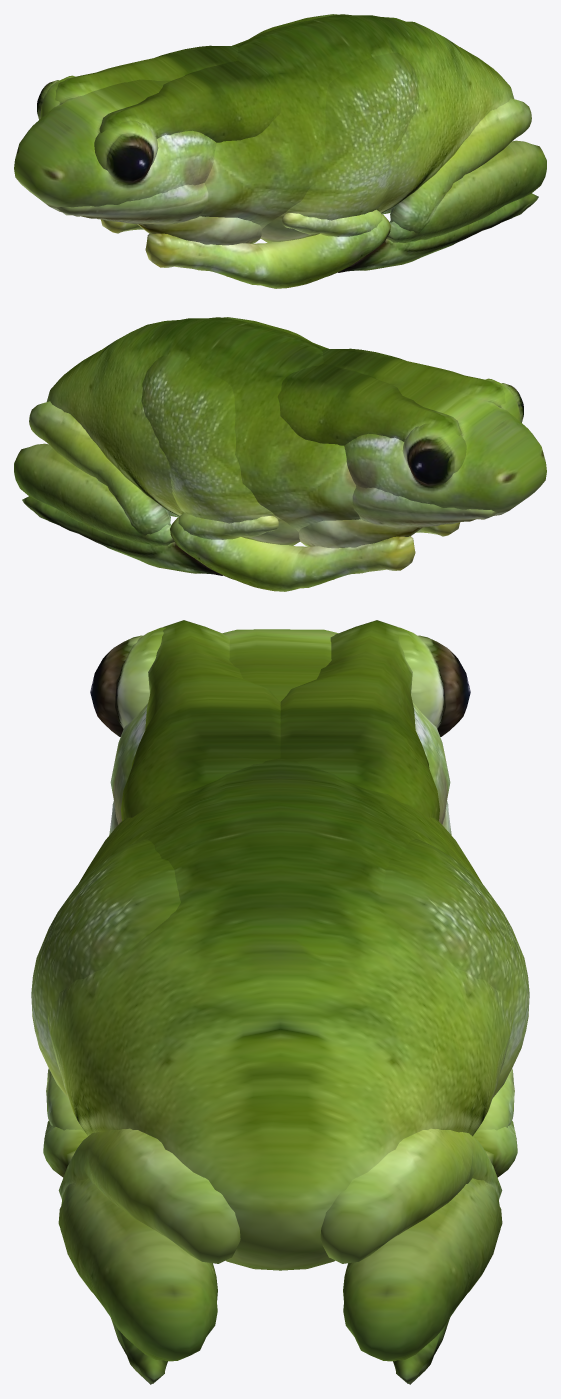
The model's file is green_tree_frog.glb.
3 renders of one model, top to bottom at view 1: azimuth 30°, elevation 25°; view 2: azimuth 150°, elevation 25°; view 3: azimuth 270°, elevation 25°, orthographic. The views are drawn at different scales.
Parts seen in each view (by area): view 1: Object_2; view 2: Object_2; view 3: Object_2.
Part boxes in pixels (x1,y1,x2,y2): Object_2: [14, 14, 546, 288]; Object_2: [14, 317, 546, 591]; Object_2: [31, 620, 529, 1384].
Size of the model in its own units: 1.42 by 0.5899 by 0.6191.
Materials: 1 (1 with a texture image).
